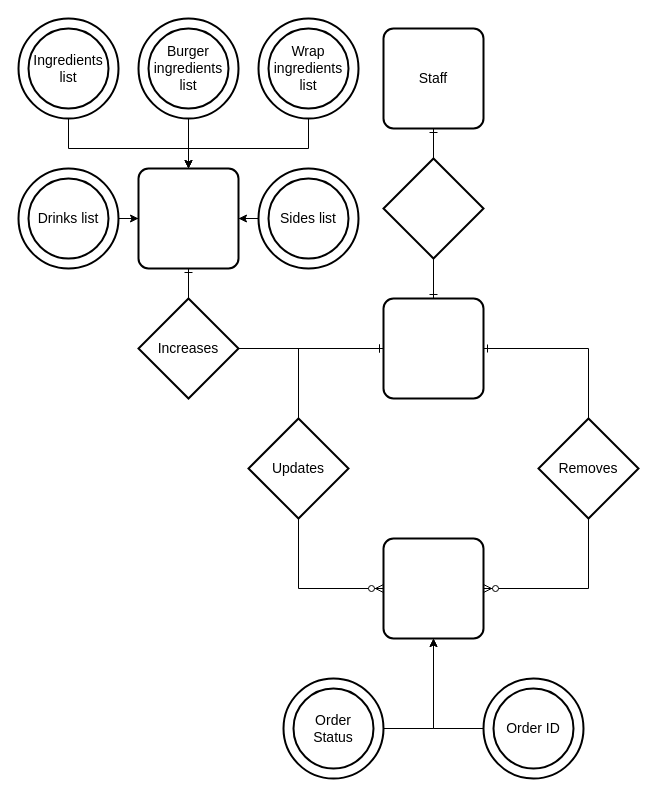
Image size: 656x796. Some labels were removed from this diagram. The shapes that lost their labels are listed below. From the top down, each one's box as (x1, y1, x2, y2) in pixels, then its label:
(137, 167, 239, 269): Inventory
(382, 157, 484, 259): Logins
(382, 297, 484, 399): System
(382, 537, 484, 639): Order
